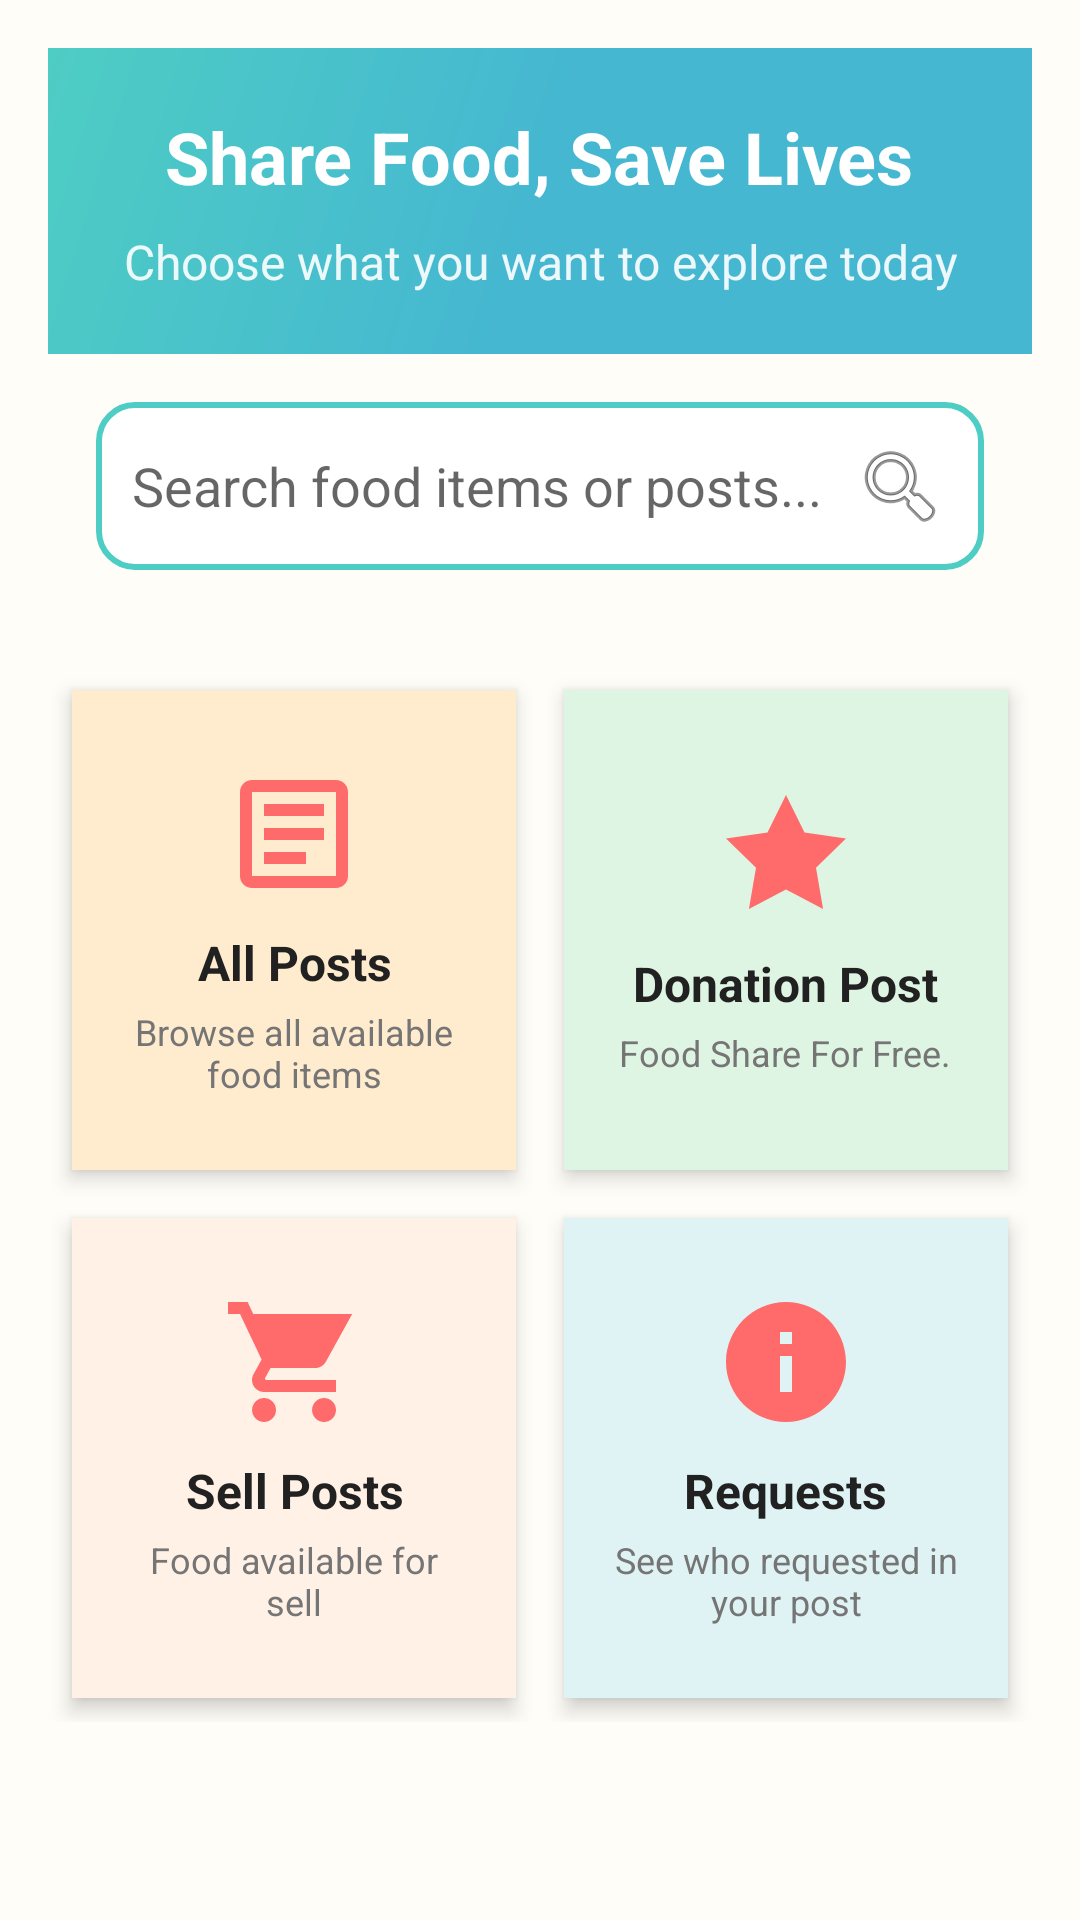

Icon bounding boxes for this 1080x1920 phone screenshot, format (x1, y1, x2, y2):
cart: (228, 1302, 352, 1422)
